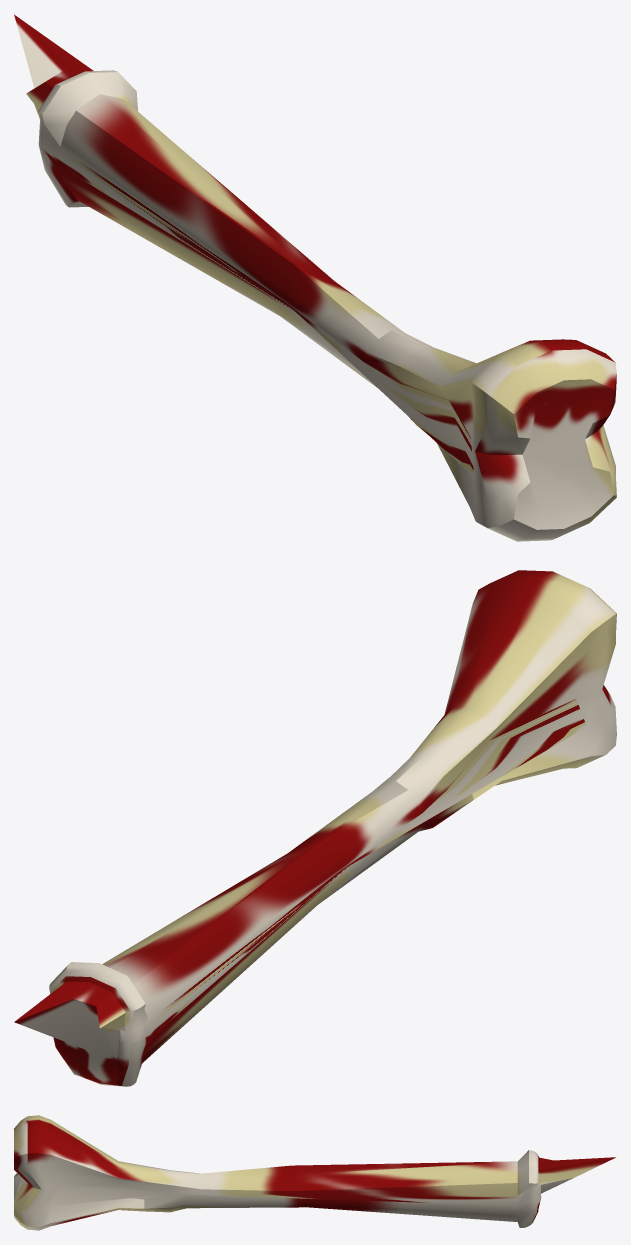
The model's file is bone.fbx.
3 renders of one model, top to bottom at view 1: azimuth 30°, elevation 25°; view 2: azimuth 150°, elevation 25°; view 3: azimuth 270°, elevation 25°, orthographic. The views are drawn at different scales.
Parts seen in each view (by area): view 1: Cylinder; view 2: Cylinder; view 3: Cylinder.
Boxes of the visible parts, x1,y1,x2,y2 form: Cylinder: [14, 14, 616, 541]; Cylinder: [14, 570, 616, 1086]; Cylinder: [14, 1115, 615, 1230].
Bounding box in the file's own units: 0.00474 × 0.00666 × 0.0348.
